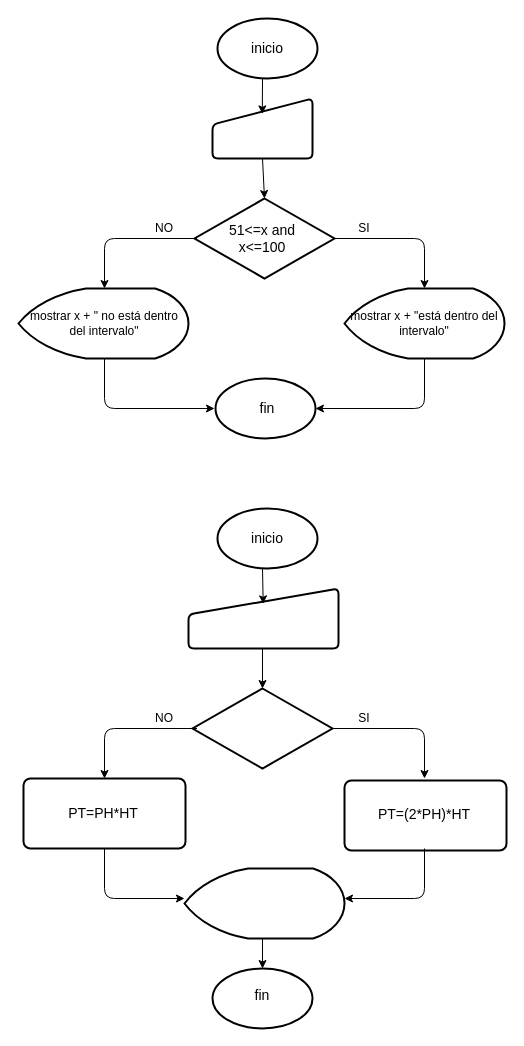
Image size: 524x1046. Some labels were removed from this diagram. The box of each missing label's shape, as (x1, y1, x2, y2) in pixels:
HT>8: (191, 687, 333, 769)
leer (HT, PH): (187, 587, 339, 649)
leer (x): (211, 97, 313, 159)
mostrar " el pago total del trabajador es" + PT: (183, 867, 345, 939)
